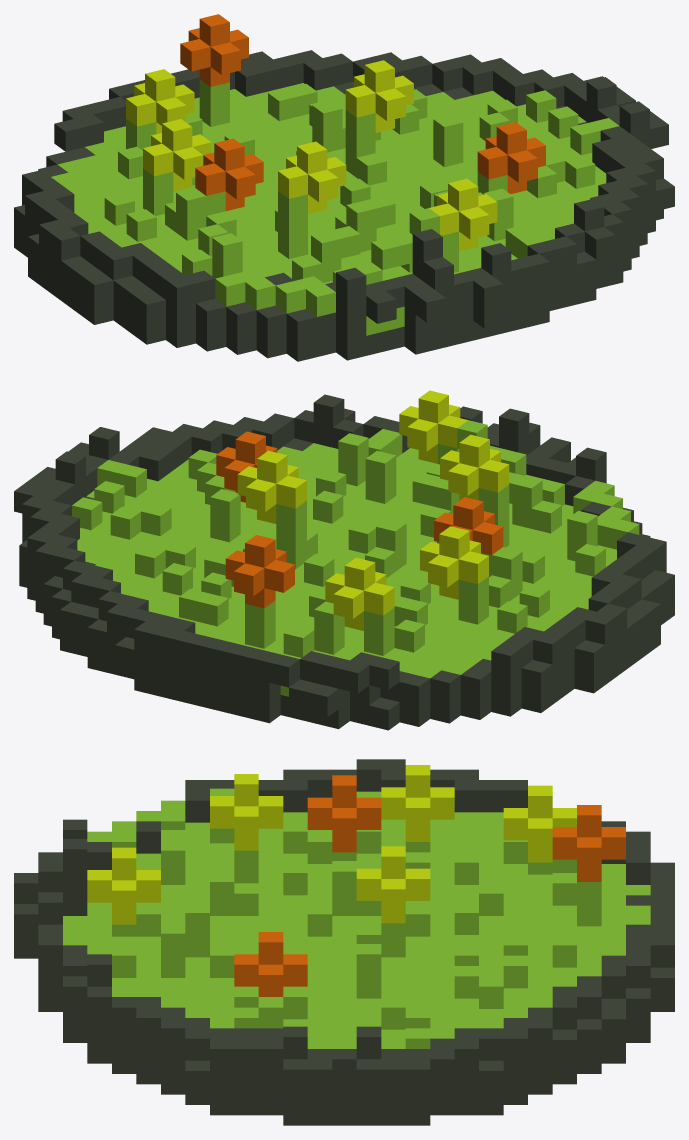
File: flowers.fbx
3 views of the same model, one above another, from view 1: azimuth 30°, elevation 25°; view 2: azimuth 150°, elevation 25°; view 3: azimuth 270°, elevation 25° (orthographic). The views are drawn at different scales.
Parts seen in each view (by area): view 1: Layer.036; view 2: Layer.036; view 3: Layer.036.
Part boxes in pixels (<box>): Layer.036: <box>14,14,674,361</box>; Layer.036: <box>14,390,674,730</box>; Layer.036: <box>14,759,674,1125</box>.
Size of the model in its own units: 1520 by 355 by 1368.
1 material, 1 textured.
